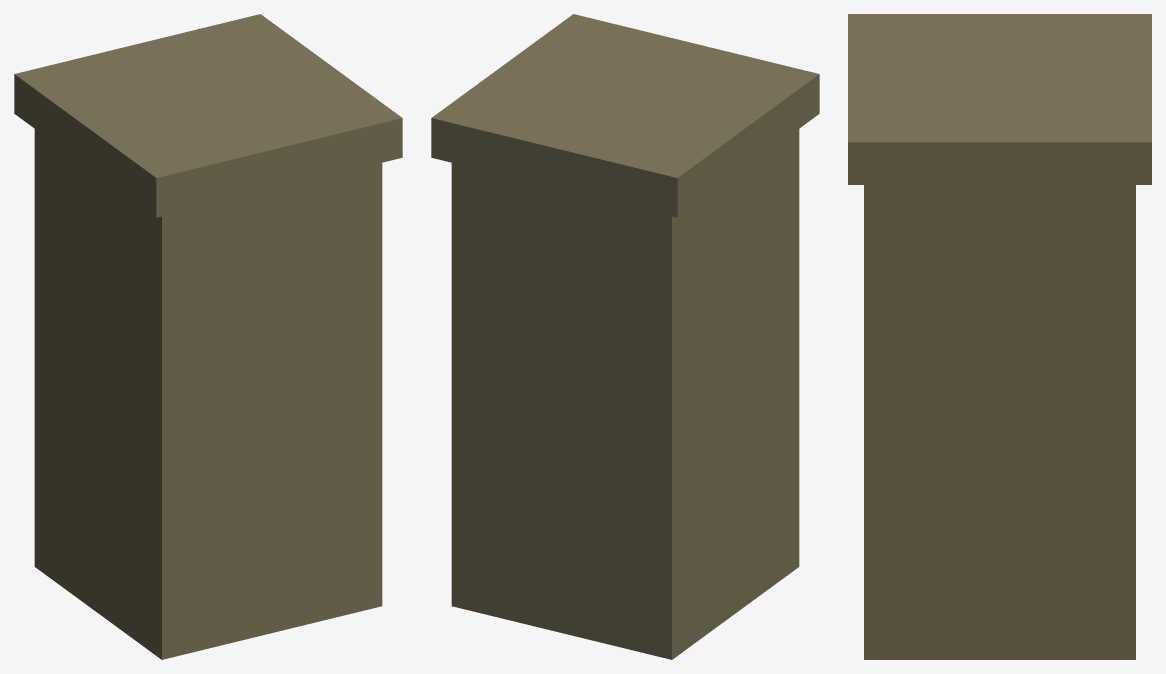
Rendered from right thing in piperoom.fbx.
3 renders of one model, left to right at view 1: azimuth 30°, elevation 25°; view 2: azimuth 150°, elevation 25°; view 3: azimuth 270°, elevation 25°, orthographic. The views are drawn at different scales.
Visible parts, largest first — view 1: pCube1; view 2: pCube1; view 3: pCube1.
Boxes of the visible parts, <box> form: pCube1: <box>14,14,402,659</box>; pCube1: <box>431,14,819,659</box>; pCube1: <box>848,14,1151,659</box>.
Size of the model in its own units: 1.97 by 3.76 by 1.97.
